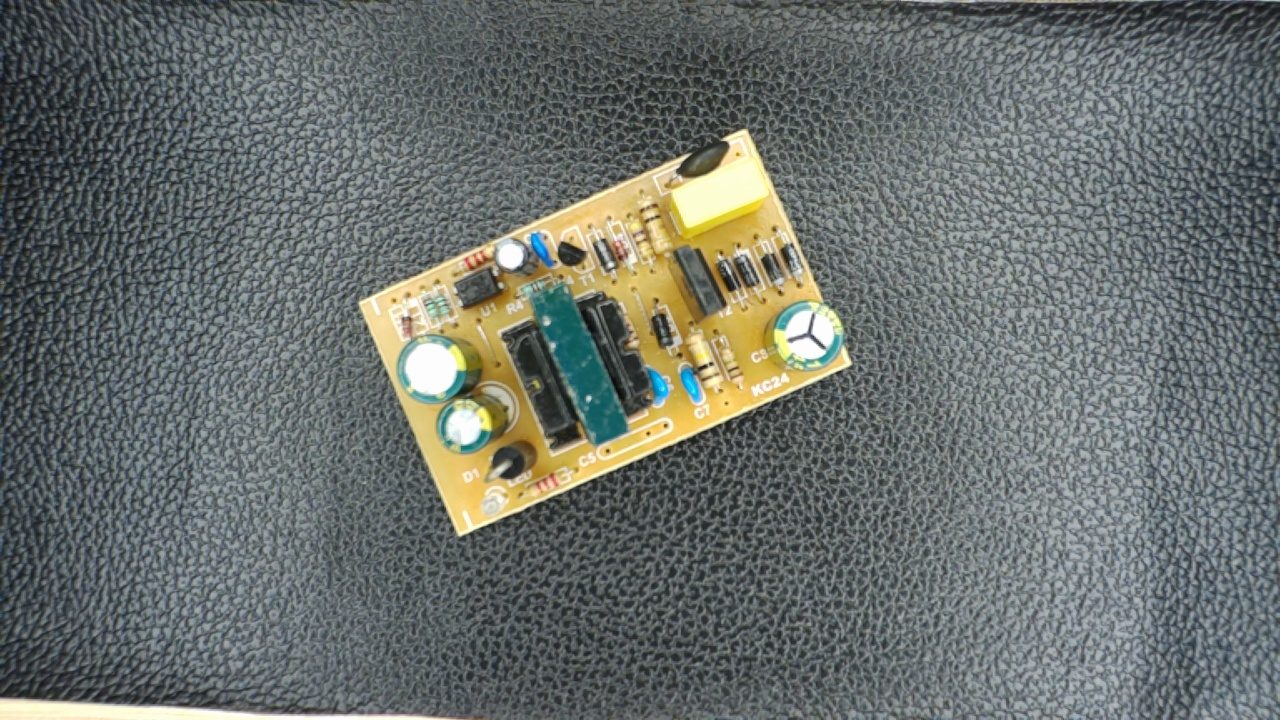fuse: (654, 138, 741, 189)
hv_capacitor: (758, 297, 848, 375)
optocoupler: (447, 269, 507, 309)
